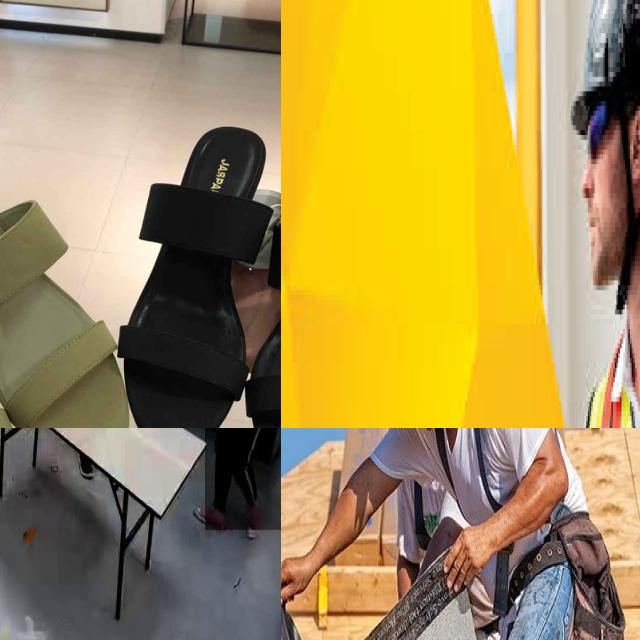Harness: (429, 428, 575, 640)
Sandals: (87, 101, 281, 428), (0, 138, 137, 428)
glasses: (578, 77, 618, 169)
head_helmet: (564, 0, 640, 120)
person: (550, 0, 640, 428), (205, 428, 281, 531)
shoes: (192, 498, 228, 538), (242, 499, 267, 545)
